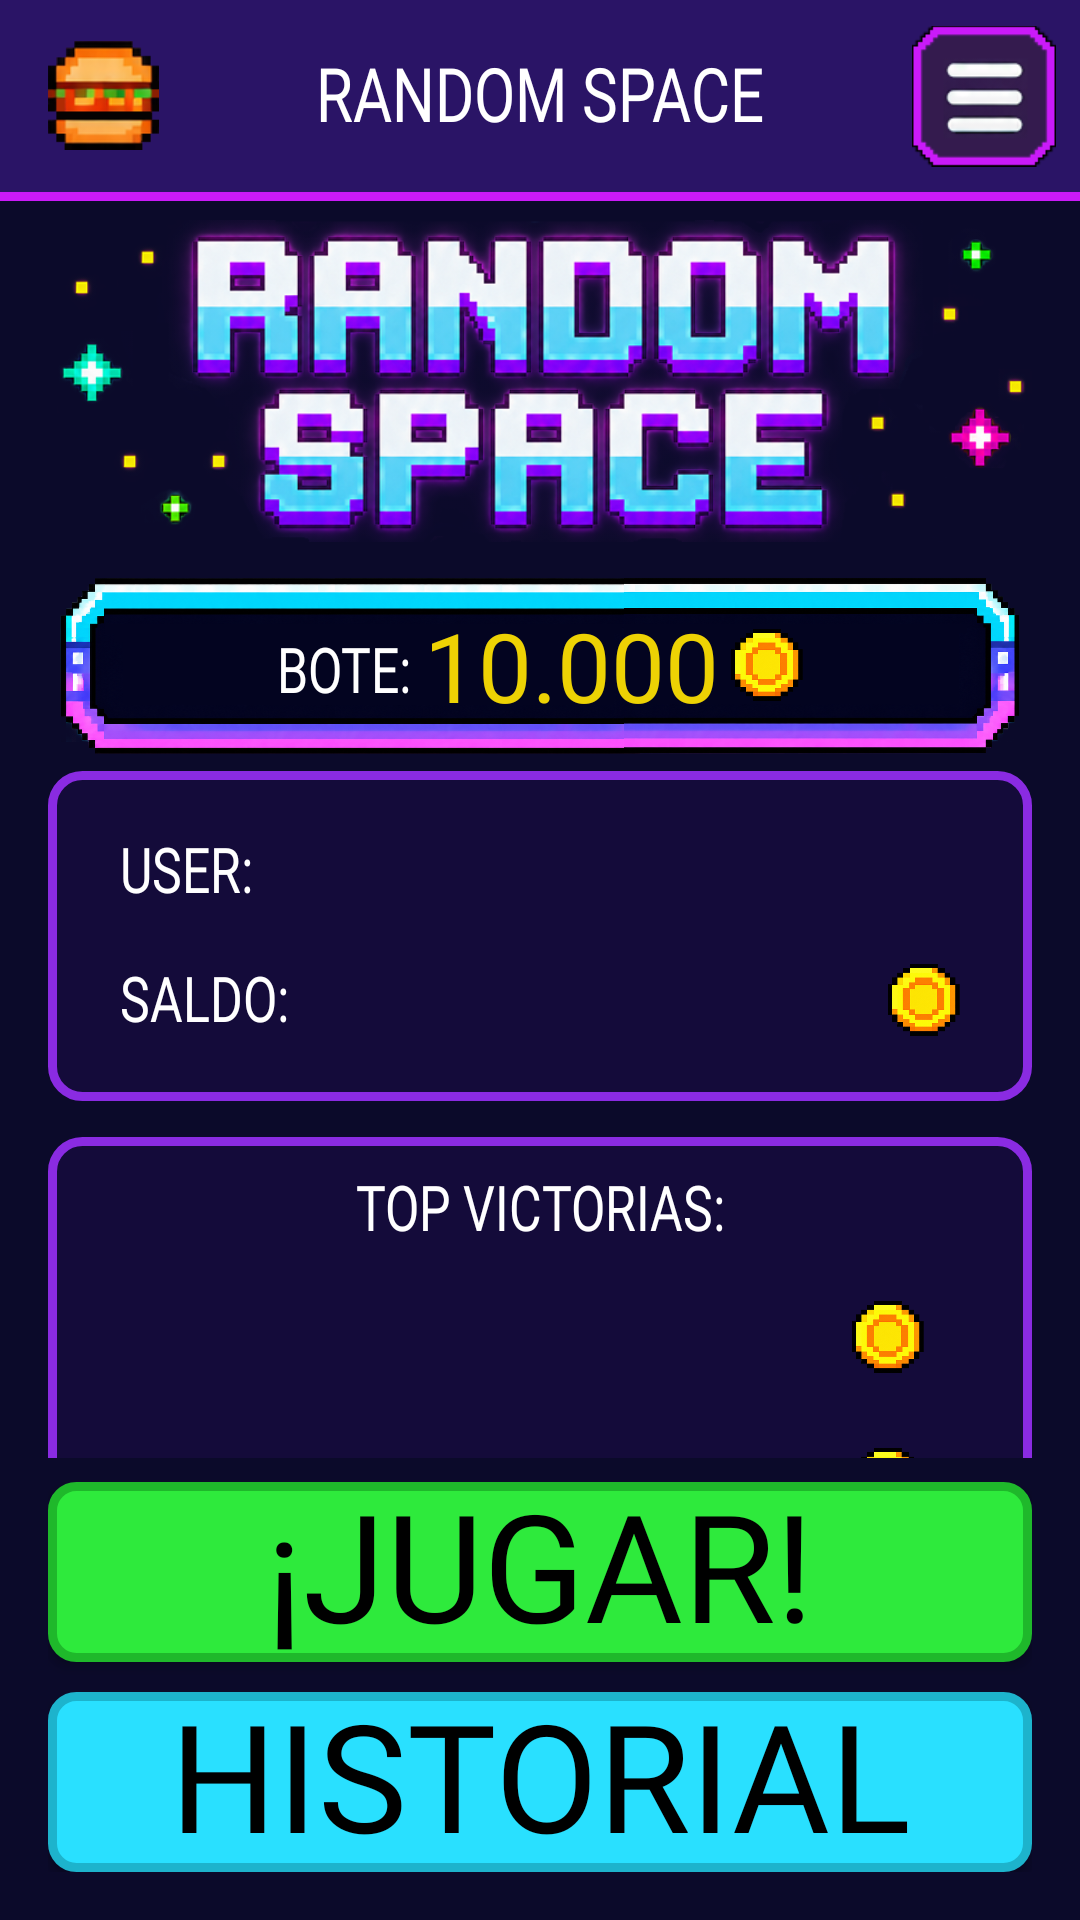

Where icons sit on this 1080*1920 app screen, as (x1, y1, x2, y2):
Abrir menú: (912, 26, 1056, 167)
burger: (48, 41, 159, 150)
